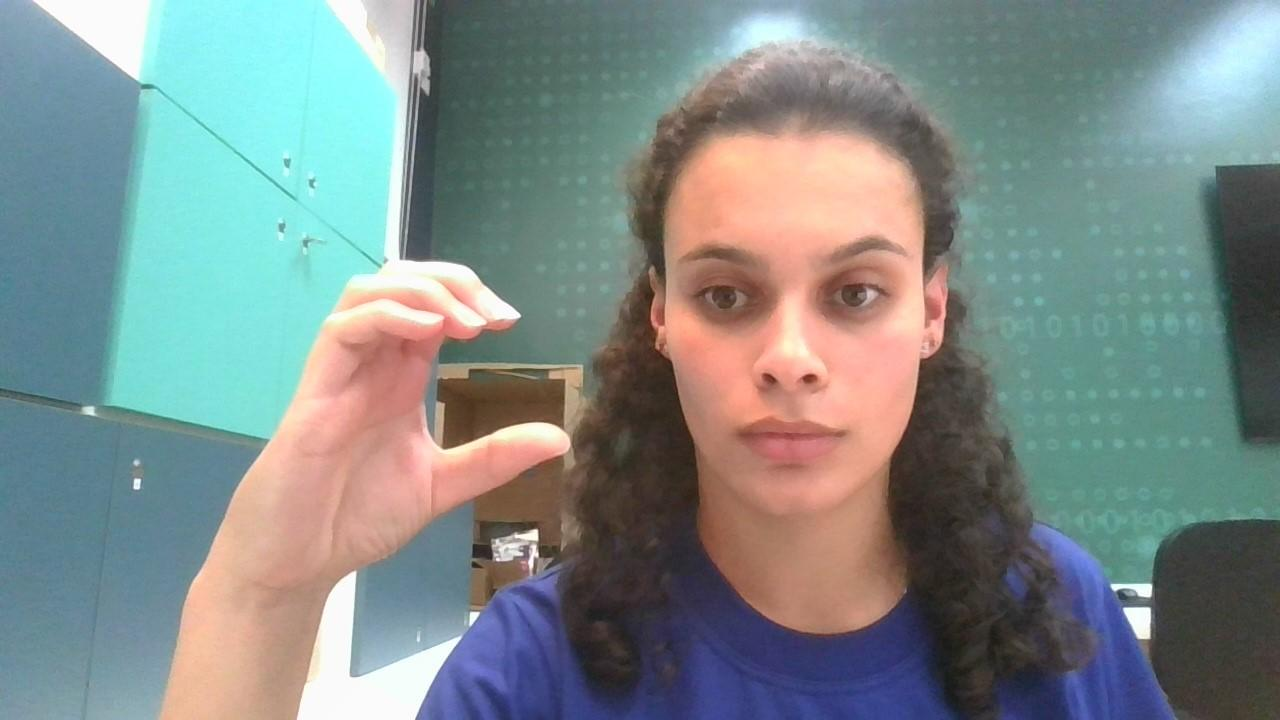C: (182, 246, 585, 612)
